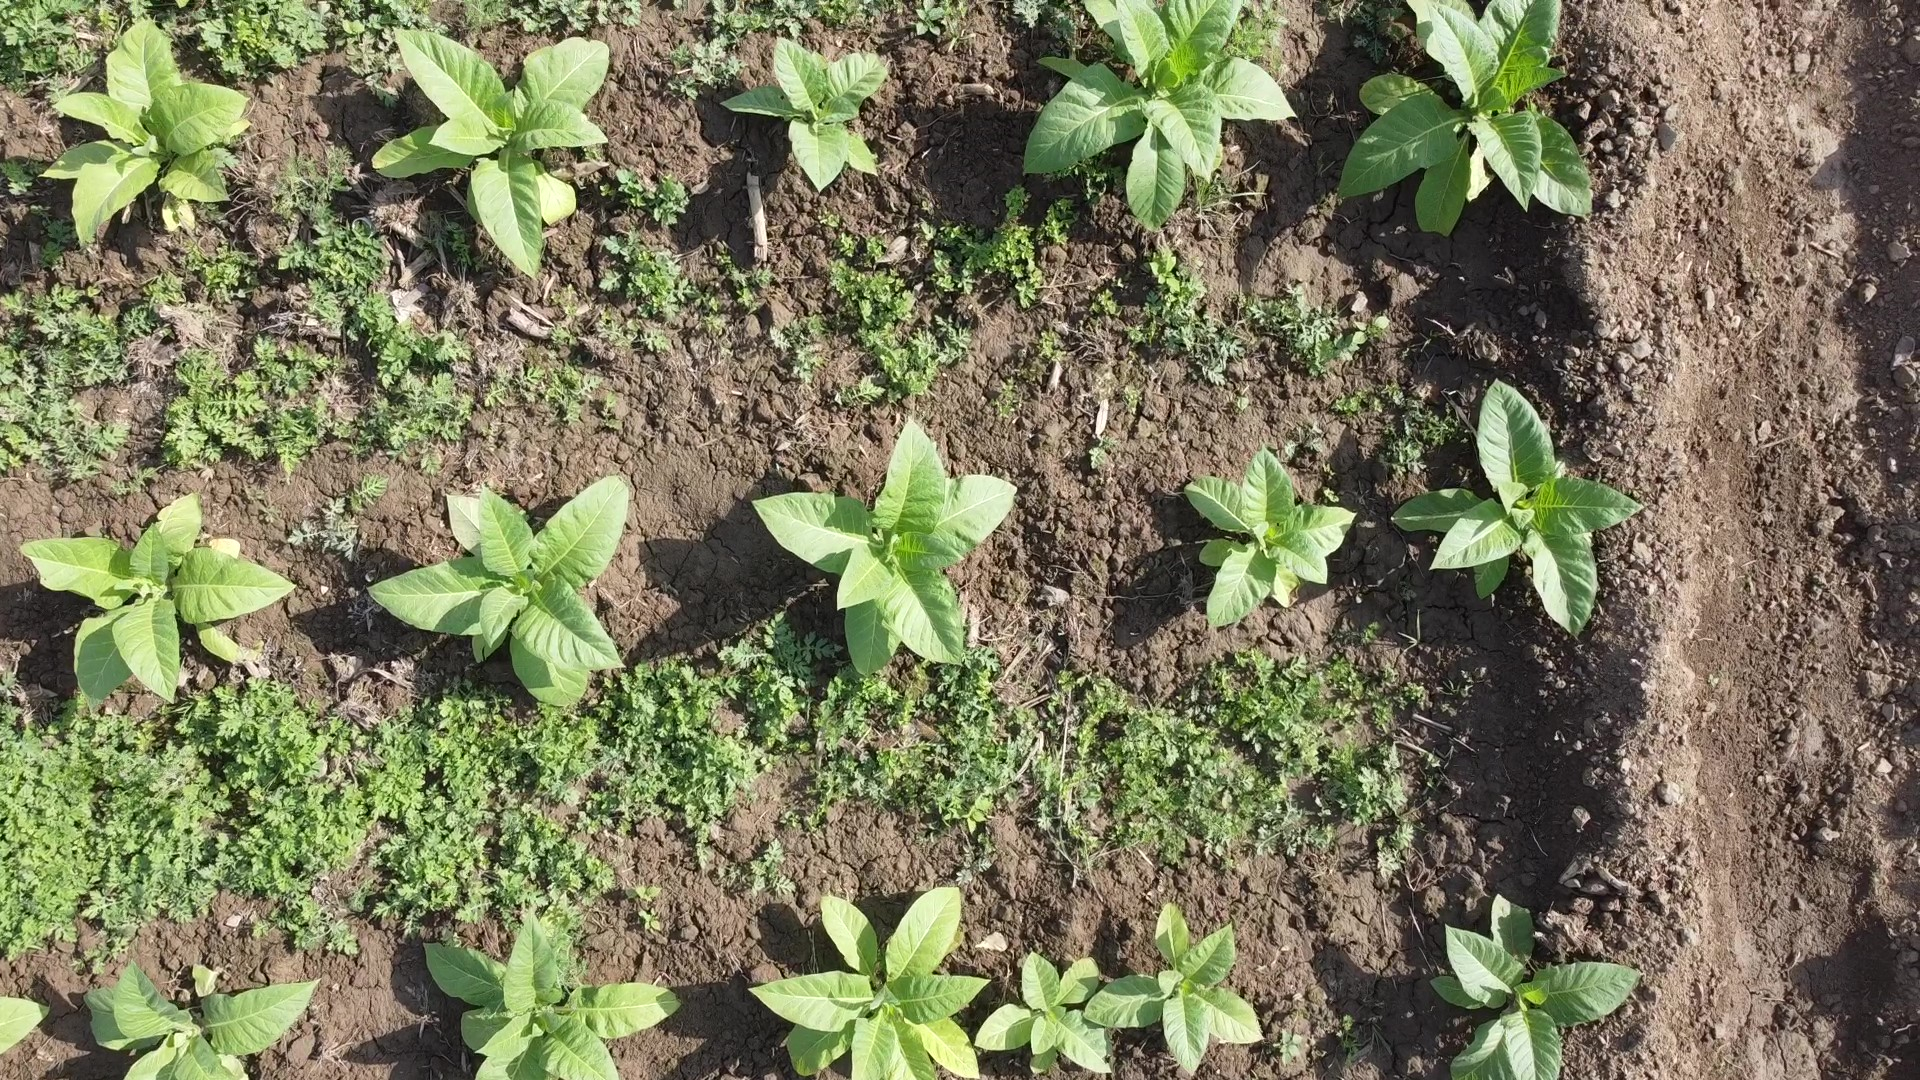weed: (745, 886, 1267, 1080), (750, 418, 1018, 678), (1390, 377, 1646, 641), (1022, 0, 1300, 233), (18, 489, 297, 715), (1336, 0, 1594, 239), (365, 473, 628, 708), (371, 26, 611, 282), (37, 17, 252, 249), (422, 906, 682, 1080), (1428, 891, 1646, 1080), (1183, 444, 1358, 628), (83, 957, 323, 1080), (719, 36, 890, 194), (1, 996, 50, 1055)
